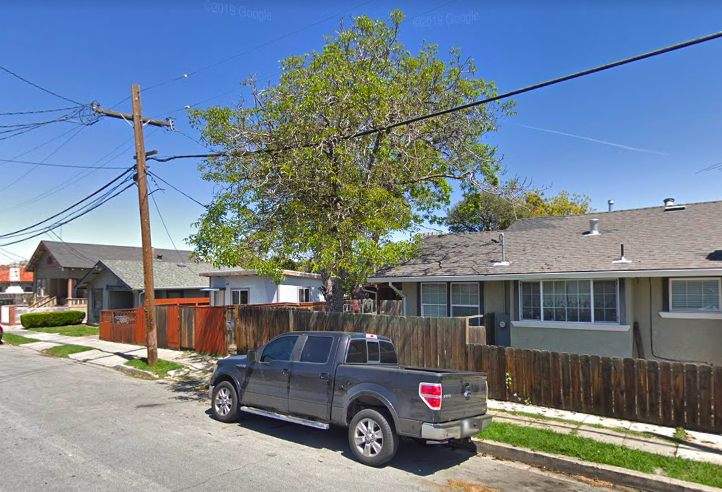tree: (182, 9, 520, 312)
